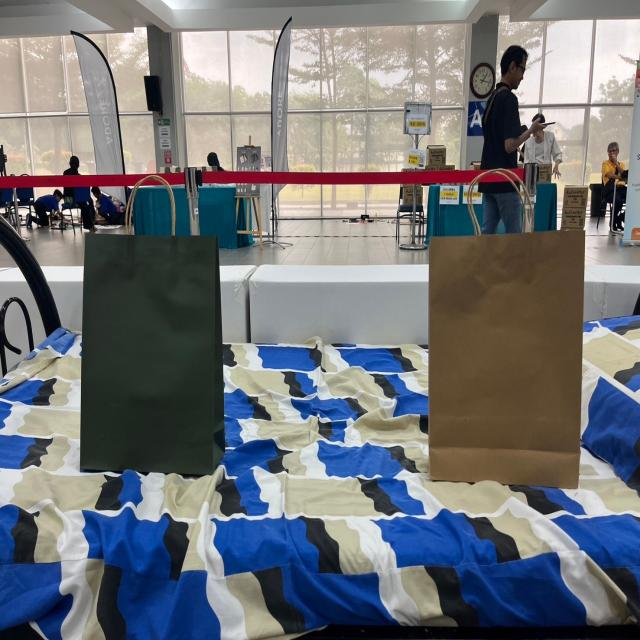bag: (419, 166, 582, 476), (94, 174, 215, 466)
